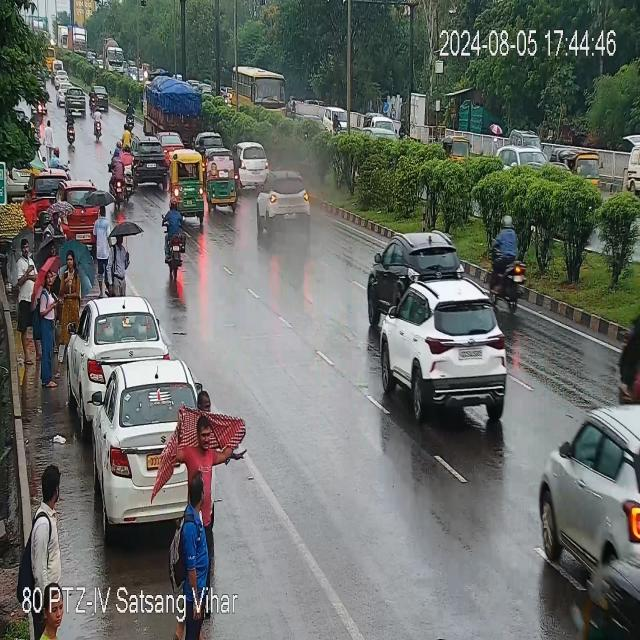2-wheelers: (485, 213, 531, 304), (156, 201, 188, 277), (110, 139, 132, 209), (88, 83, 111, 112), (90, 108, 108, 141), (52, 148, 73, 176), (65, 106, 76, 143), (126, 99, 134, 129), (122, 118, 130, 146)
auto: (168, 146, 214, 218), (553, 148, 602, 192), (206, 148, 235, 210), (439, 133, 472, 165)
bus: (232, 68, 285, 111)
car: (374, 280, 513, 432), (534, 398, 638, 578), (88, 364, 192, 524), (360, 232, 478, 321), (71, 294, 164, 399), (248, 172, 310, 234), (52, 181, 106, 238), (134, 130, 166, 185), (237, 147, 270, 191), (64, 86, 85, 118), (56, 81, 72, 102)
pedestrian: (176, 463, 208, 640), (29, 464, 66, 594), (183, 414, 229, 512), (15, 235, 39, 362), (58, 251, 78, 373), (41, 268, 56, 390), (42, 586, 72, 640), (94, 198, 110, 291), (110, 231, 128, 294), (22, 188, 38, 222), (44, 117, 53, 165), (198, 390, 215, 413)
truck: (144, 62, 205, 140), (68, 23, 88, 57), (104, 43, 122, 73)
